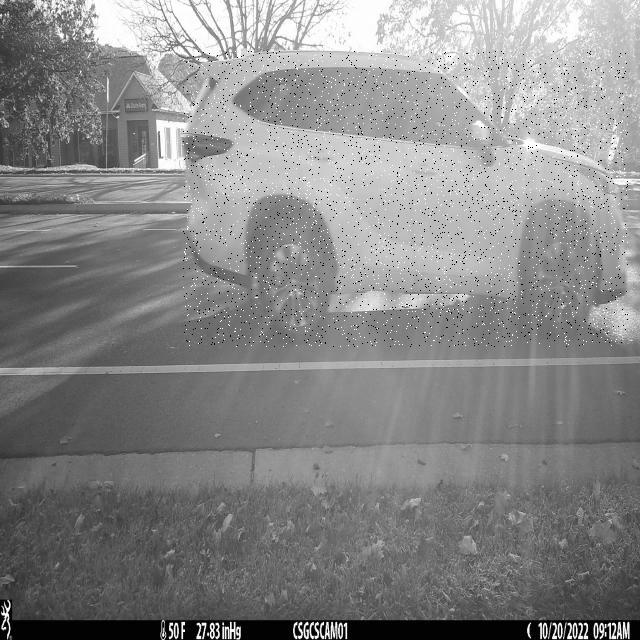SUV: (183, 51, 628, 347)
